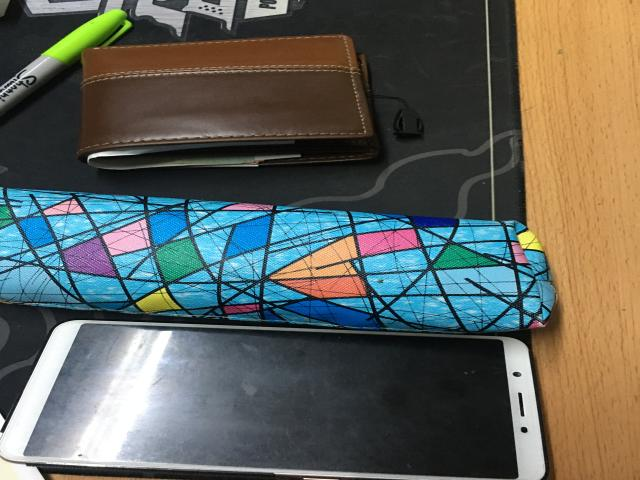Mobile phone: (2, 321, 545, 480)
Pen: (0, 9, 132, 114)
Wallet: (77, 35, 380, 170)
